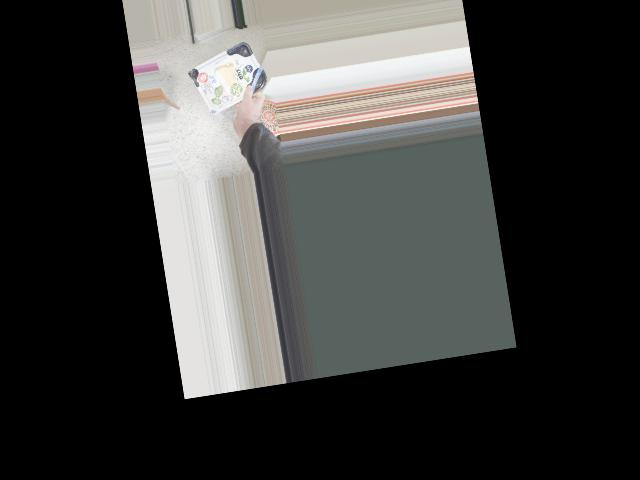cheese: (193, 49, 262, 108)
